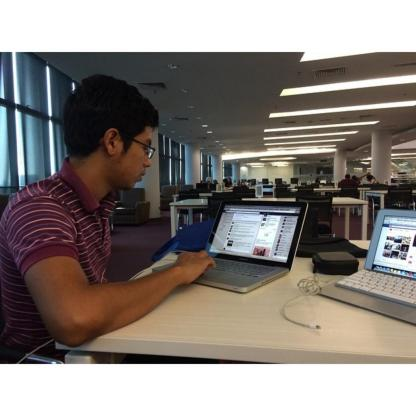board: (310, 208, 416, 323), (189, 191, 310, 287)
